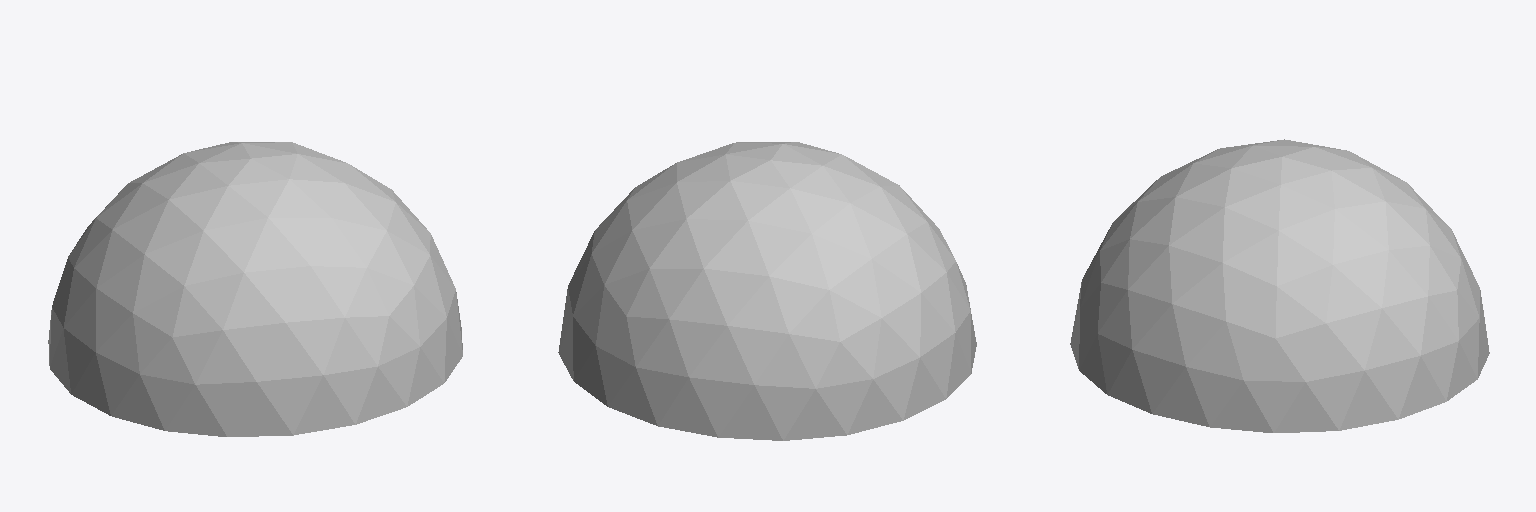
Rendered from glass_dome (3).obj.
3 renders of one model, left to right at view 1: azimuth 30°, elevation 25°; view 2: azimuth 150°, elevation 25°; view 3: azimuth 270°, elevation 25°, orthographic.
Parts seen in each view (by area): view 1: MASH_Edge_Distribution5:MASH_Edge_Distribution:MASH1_ReproMesh1; view 2: MASH_Edge_Distribution5:MASH_Edge_Distribution:MASH1_ReproMesh1; view 3: MASH_Edge_Distribution5:MASH_Edge_Distribution:MASH1_ReproMesh1.
Boxes of the visible parts, x1,y1,x2,y2 form: MASH_Edge_Distribution5:MASH_Edge_Distribution:MASH1_ReproMesh1: [48, 142, 462, 436]; MASH_Edge_Distribution5:MASH_Edge_Distribution:MASH1_ReproMesh1: [558, 142, 976, 440]; MASH_Edge_Distribution5:MASH_Edge_Distribution:MASH1_ReproMesh1: [1070, 139, 1489, 432].
Bounding box in the file's own units: 8.24 × 4.23 × 8.24.